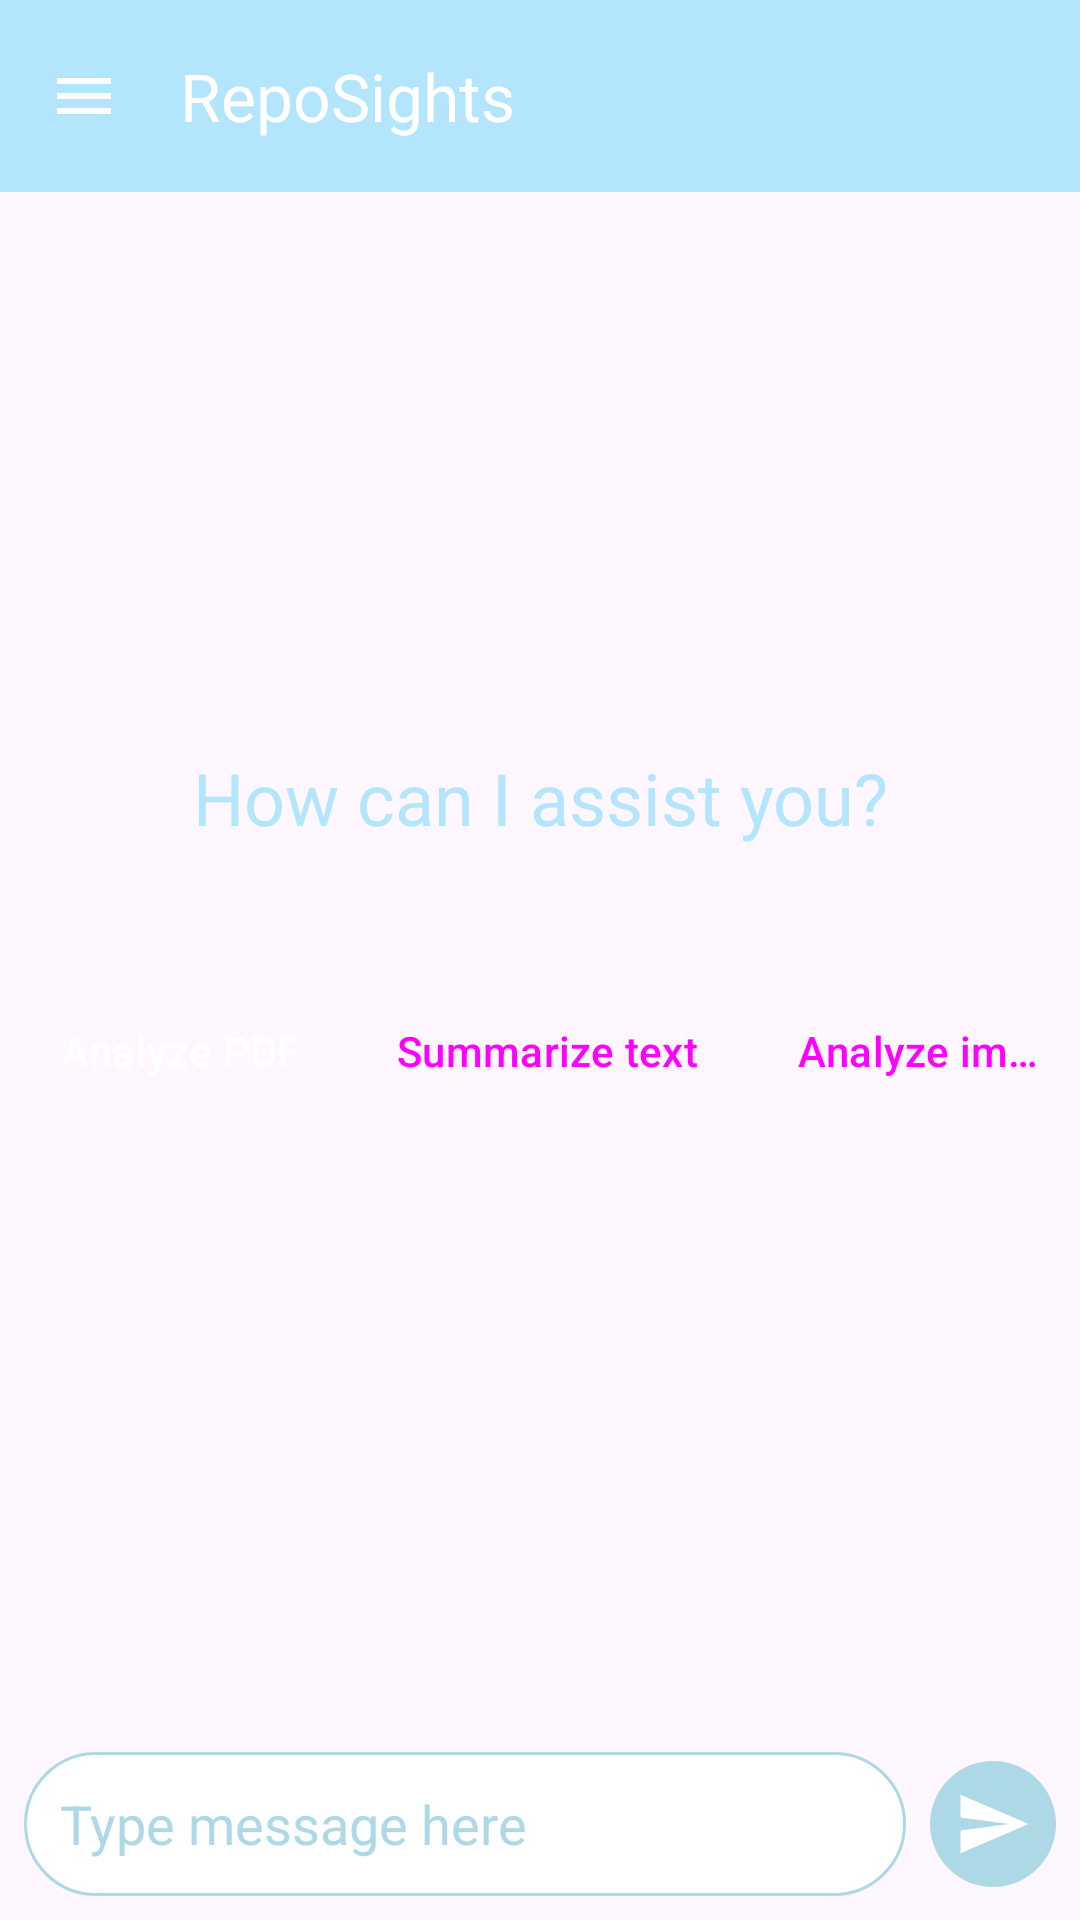

Icon bounding boxes for this 1080*1920 phone screenshot, format (x1, y1, x2, y2):
Send Icon: (930, 1761, 1056, 1887)
